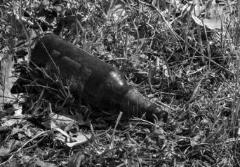glass: (29, 34, 168, 128)
